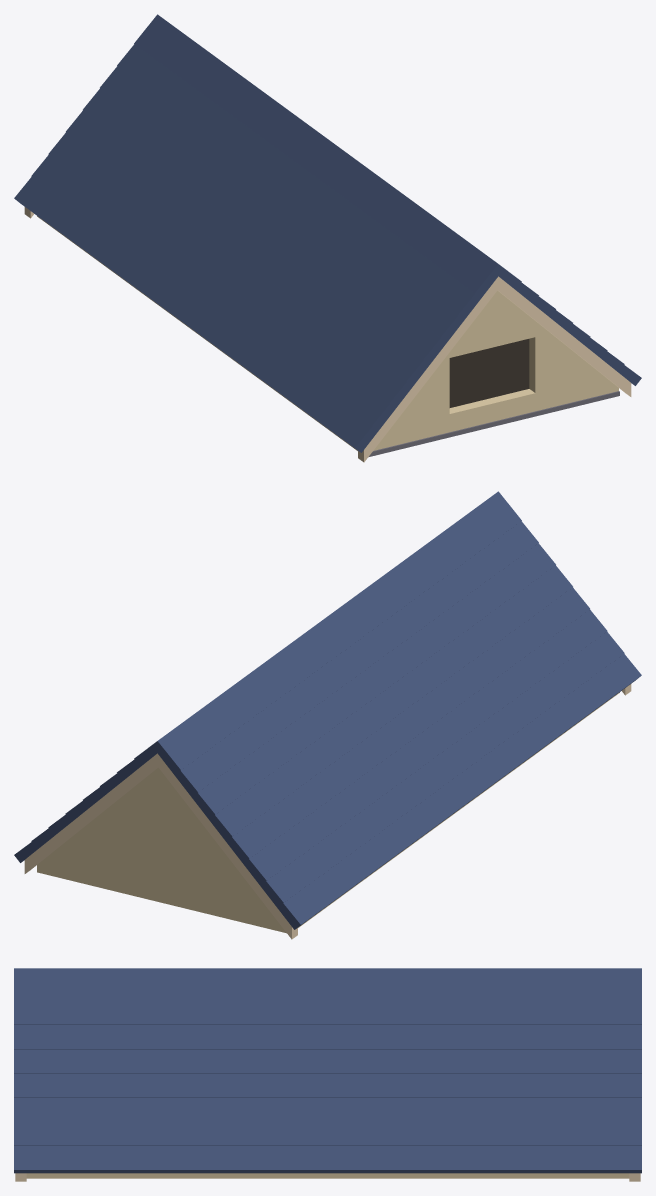
Rendered from SM_Roof_NarrowGable_Yellow_364_01.gltf.
3 renders of one model, top to bottom at view 1: azimuth 30°, elevation 25°; view 2: azimuth 150°, elevation 25°; view 3: azimuth 270°, elevation 25°, orthographic. The views are drawn at different scales.
Visible parts, largest first — view 1: SM_Roof_NarrowGable_Yellow_364_01; view 2: SM_Roof_NarrowGable_Yellow_364_01; view 3: SM_Roof_NarrowGable_Yellow_364_01.
Boxes of the visible parts, left/top/right/bottom form: SM_Roof_NarrowGable_Yellow_364_01: left=14, top=14, right=641, bottom=462; SM_Roof_NarrowGable_Yellow_364_01: left=14, top=491, right=641, bottom=939; SM_Roof_NarrowGable_Yellow_364_01: left=14, top=968, right=641, bottom=1181.
Bounding box in the file's own units: 4.12 × 2.29 × 8.49.
1 material, 1 textured.
